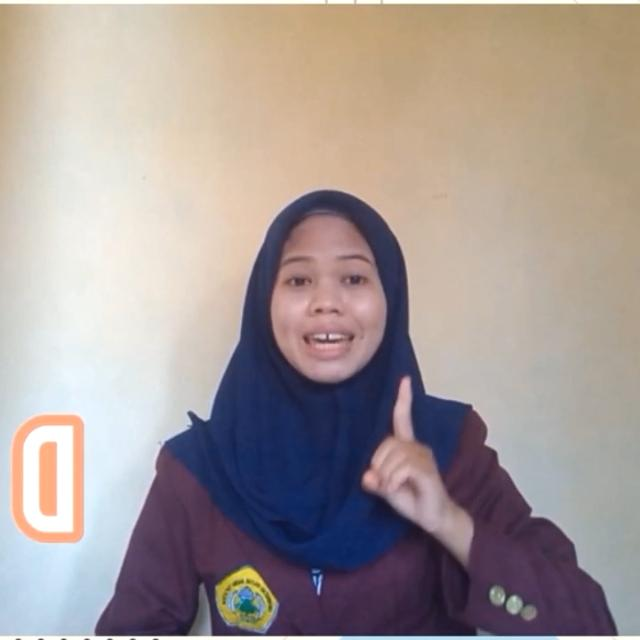D: (362, 375, 458, 535)
